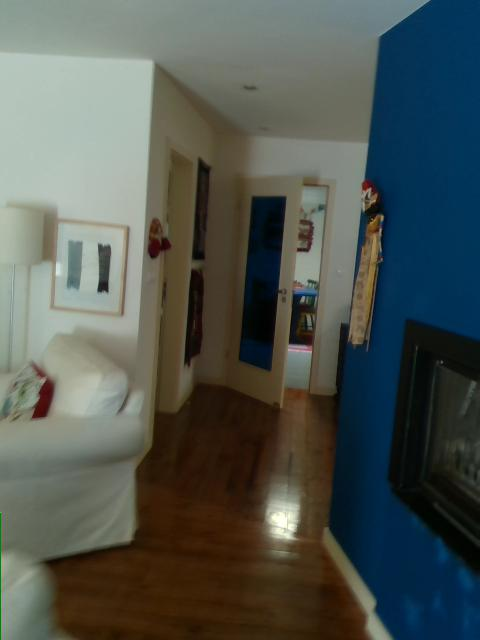semi_door: (221, 167, 338, 412)
